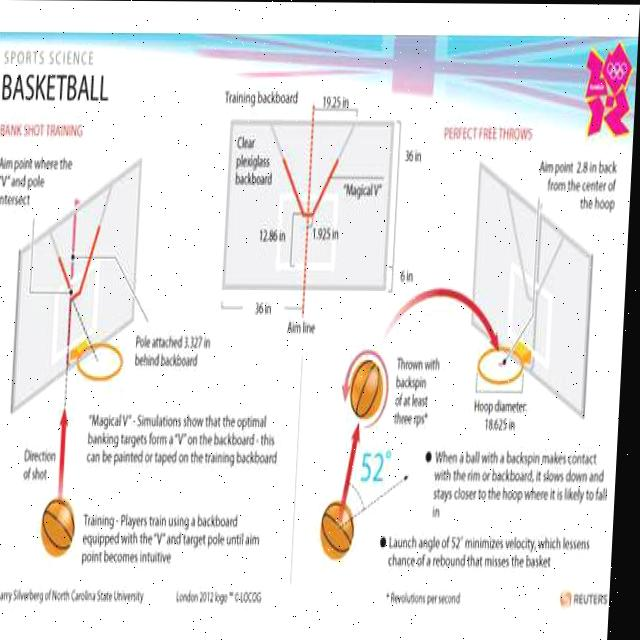basketball: (347, 360, 385, 420), (320, 500, 355, 559), (39, 500, 75, 556)
hoop: (76, 342, 124, 382), (476, 347, 524, 384)
